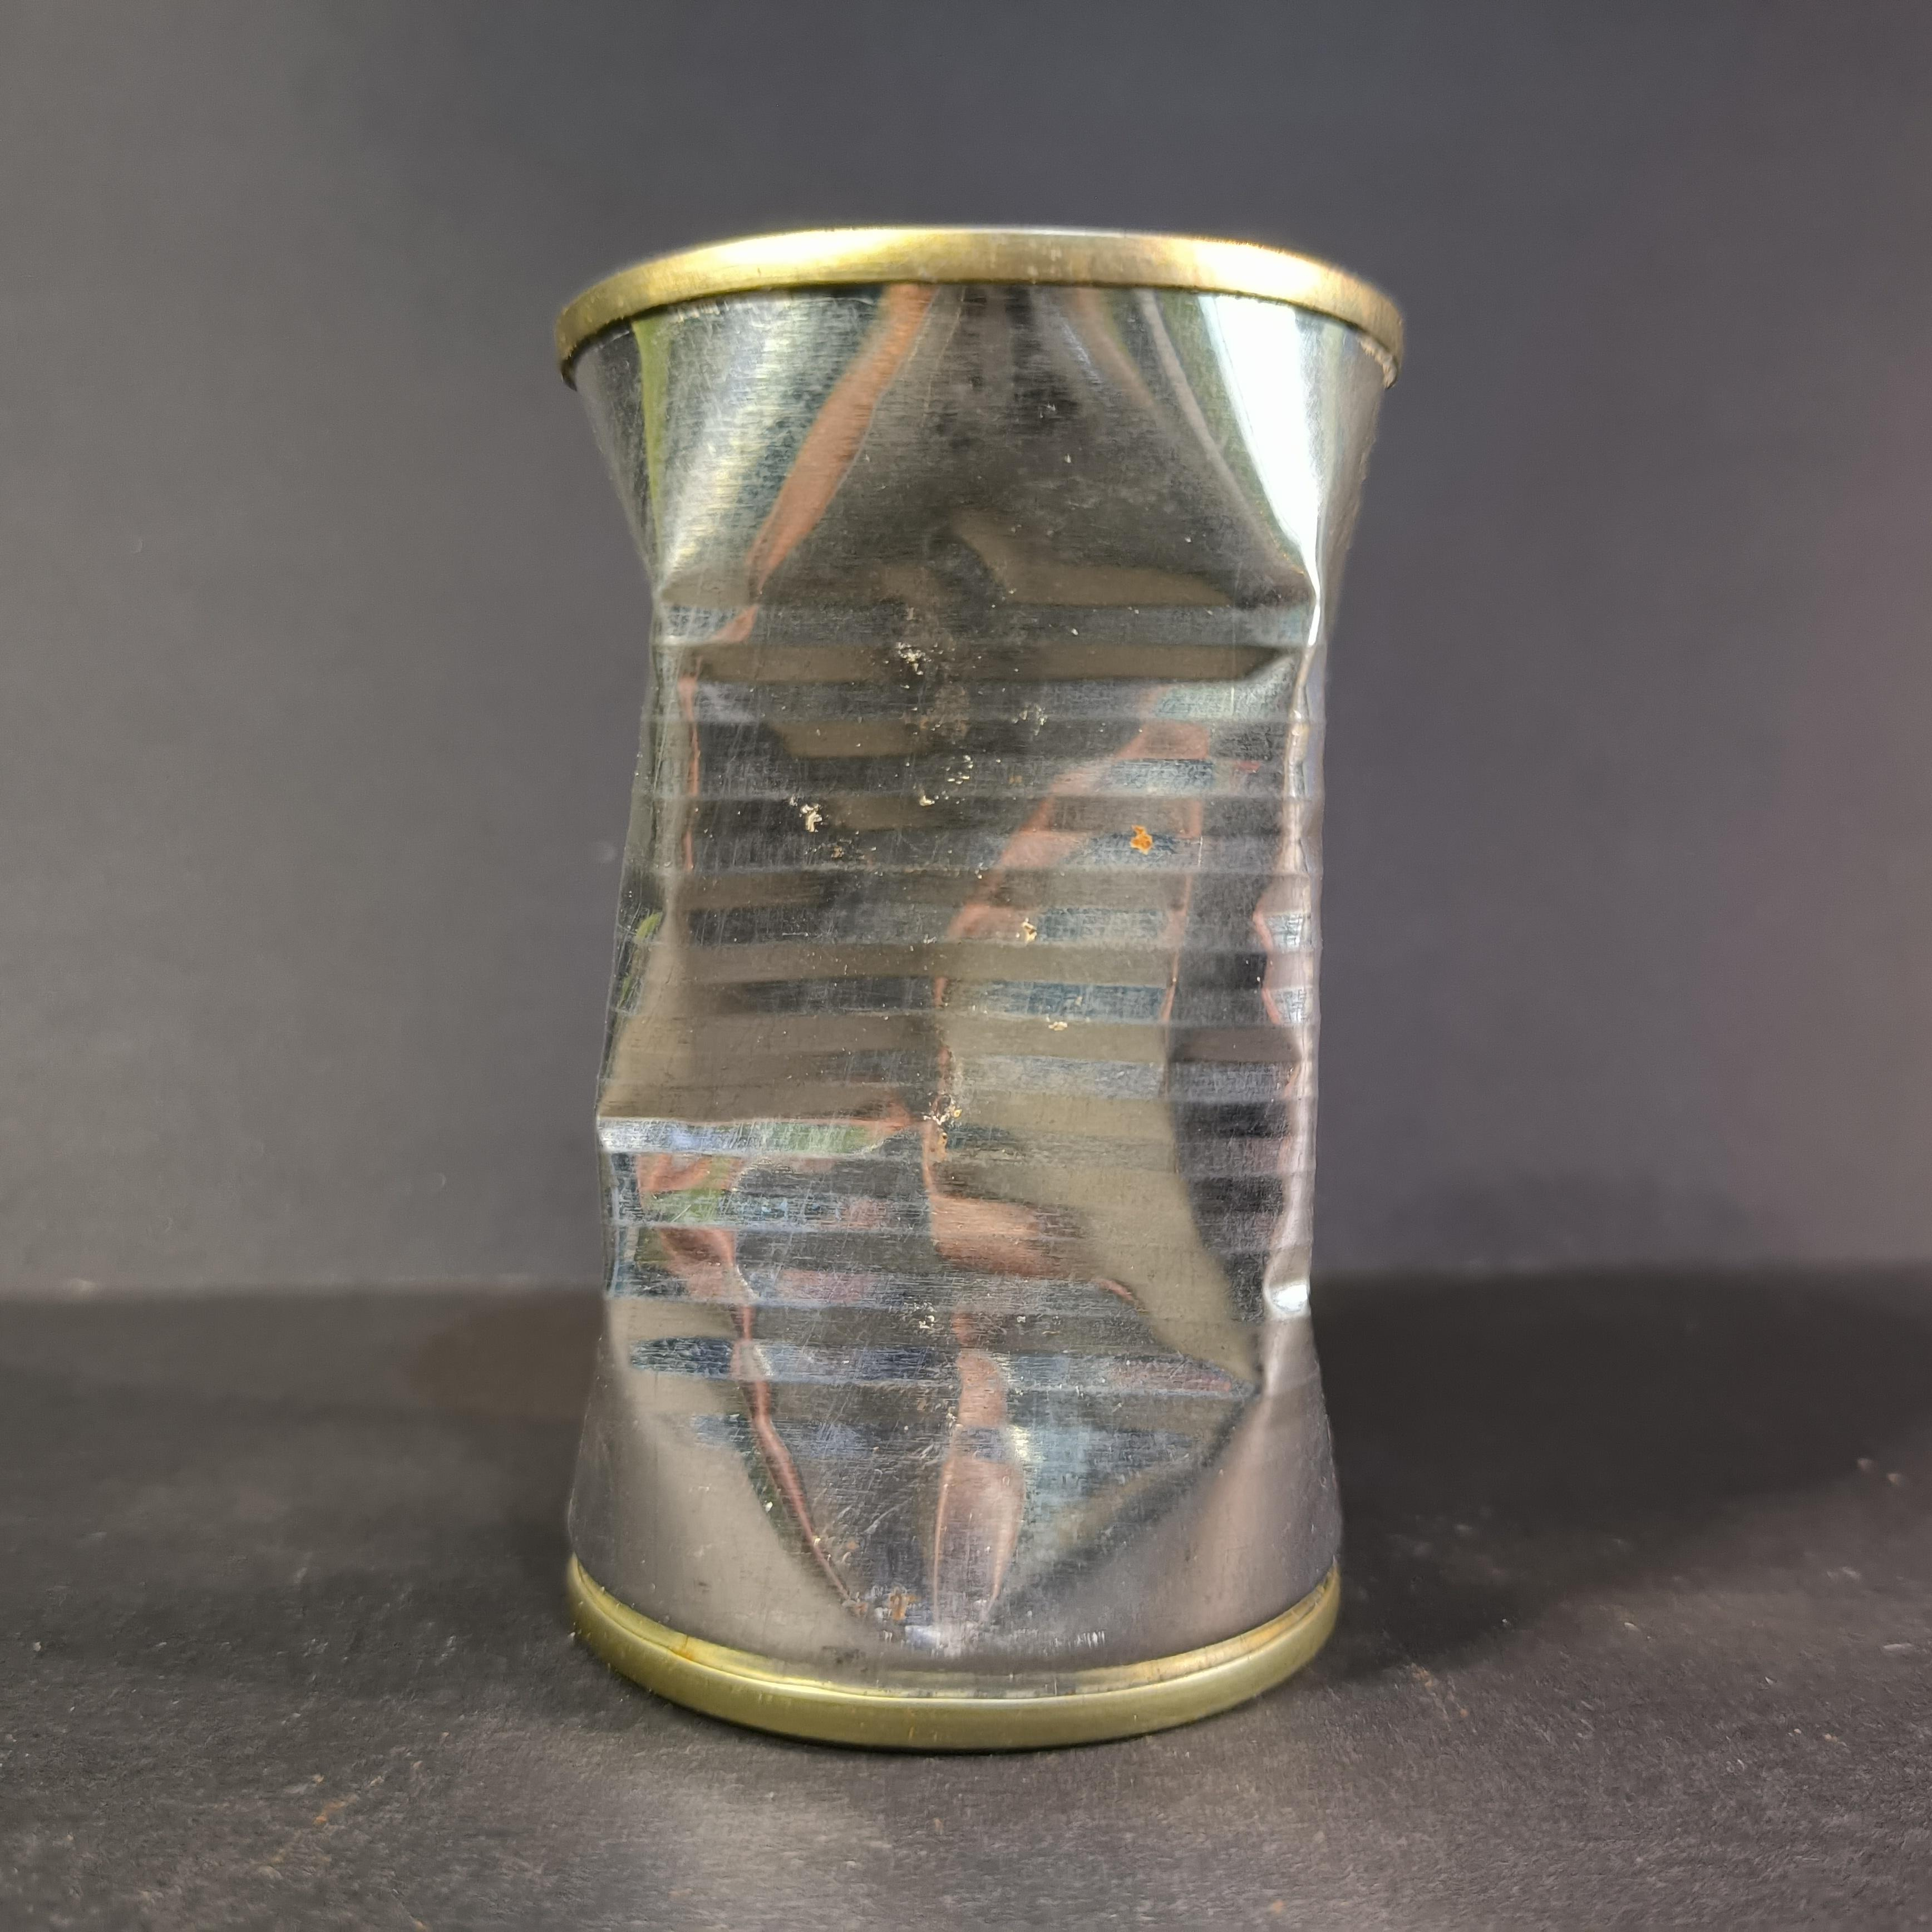Dented: (525, 189, 1430, 1750)
